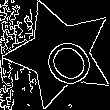O_NW: (26, 21, 94, 87)
